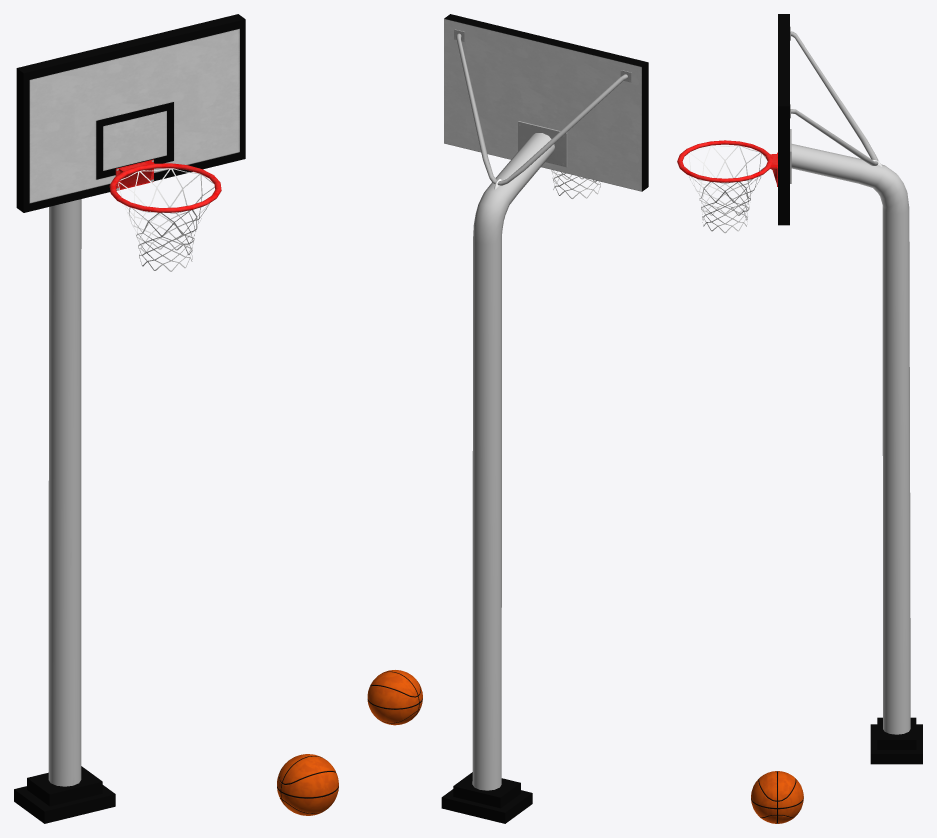
The model's file is uploads_files_5230575_Basketballk.glb.
3 views of the same model, side by side, from view 1: azimuth 30°, elevation 25°; view 2: azimuth 150°, elevation 25°; view 3: azimuth 270°, elevation 25° (orthographic). The views are drawn at different scales.
Visible parts, largest first — view 1: BasktBallBasket Optimized, Basketball Optimized; view 2: BasktBallBasket Optimized, Basketball Optimized; view 3: BasktBallBasket Optimized, Basketball Optimized.
Part boxes in pixels (x1=…): BasktBallBasket Optimized: x1=14, y1=14, x2=245, y2=823; Basketball Optimized: x1=277, y1=754, x2=338, y2=815; BasktBallBasket Optimized: x1=441, y1=14, x2=648, y2=823; Basketball Optimized: x1=367, y1=670, x2=422, y2=725; BasktBallBasket Optimized: x1=677, y1=14, x2=922, y2=764; Basketball Optimized: x1=751, y1=771, x2=803, y2=823.
Bounding box in the file's own units: 1.43 × 3.57 × 1.15.
2 materials, 2 textured.
